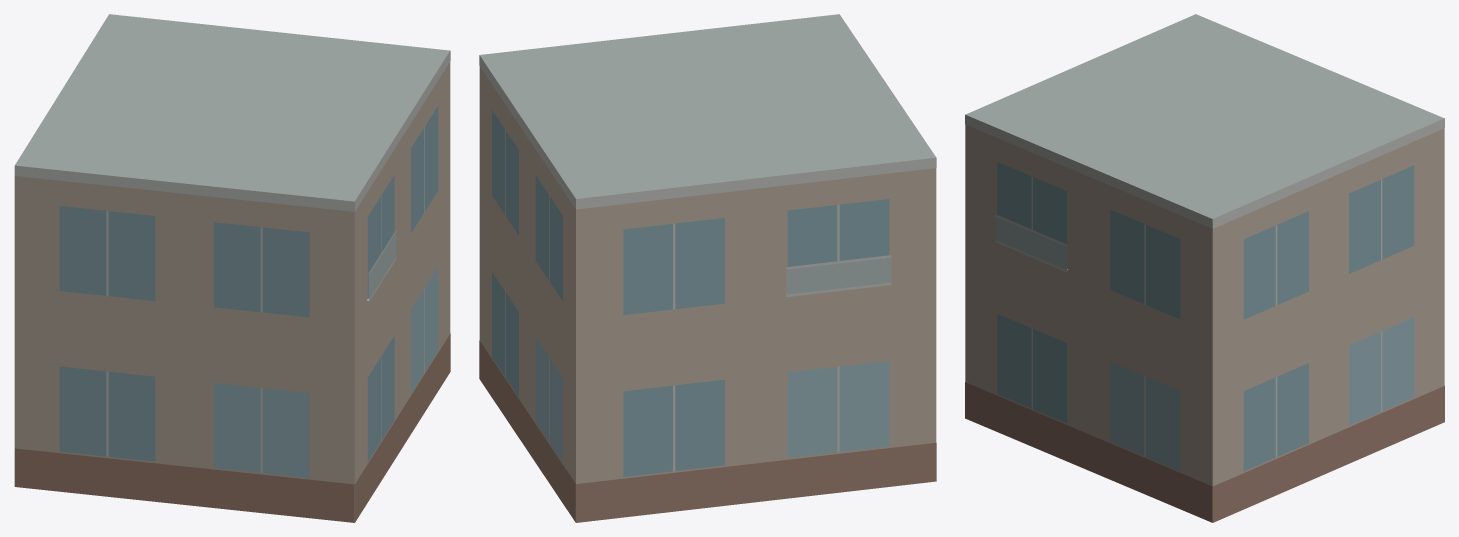
File: survey-upis-32647720.glb
3 views of the same model, side by side, from view 1: azimuth 30°, elevation 25°; view 2: azimuth 150°, elevation 25°; view 3: azimuth 270°, elevation 25° (orthographic). The views are drawn at different scales.
Parts seen in each view (by area): view 1: survey-upis-32647720.tmp; view 2: survey-upis-32647720.tmp; view 3: survey-upis-32647720.tmp.
Boxes of the visible parts, <box> form: survey-upis-32647720.tmp: <box>14,14,450,522</box>; survey-upis-32647720.tmp: <box>479,14,936,522</box>; survey-upis-32647720.tmp: <box>965,14,1444,522</box>.
Size of the model in its own units: 11.01 by 7.6 by 10.88.
